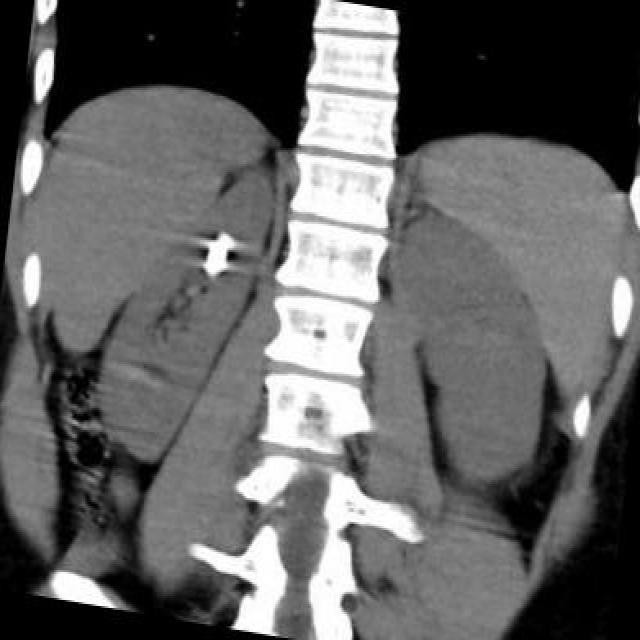Tas_Var: (199, 238, 230, 278), (214, 231, 239, 249)
